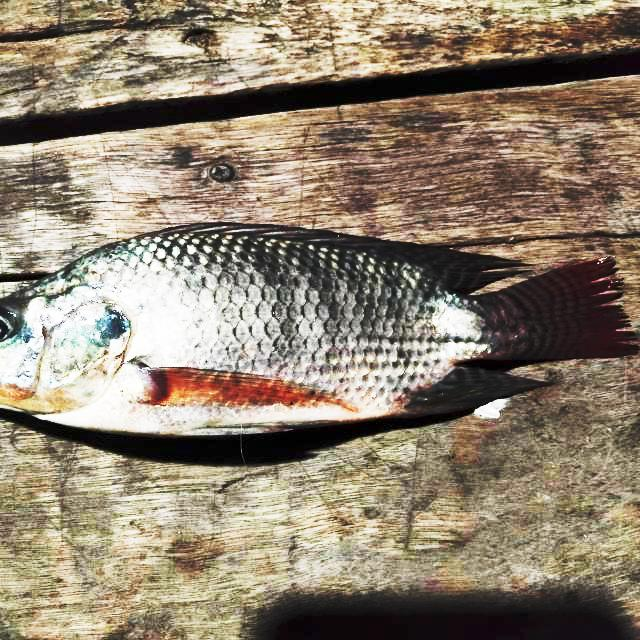Healthy Fish: (0, 222, 639, 437)
